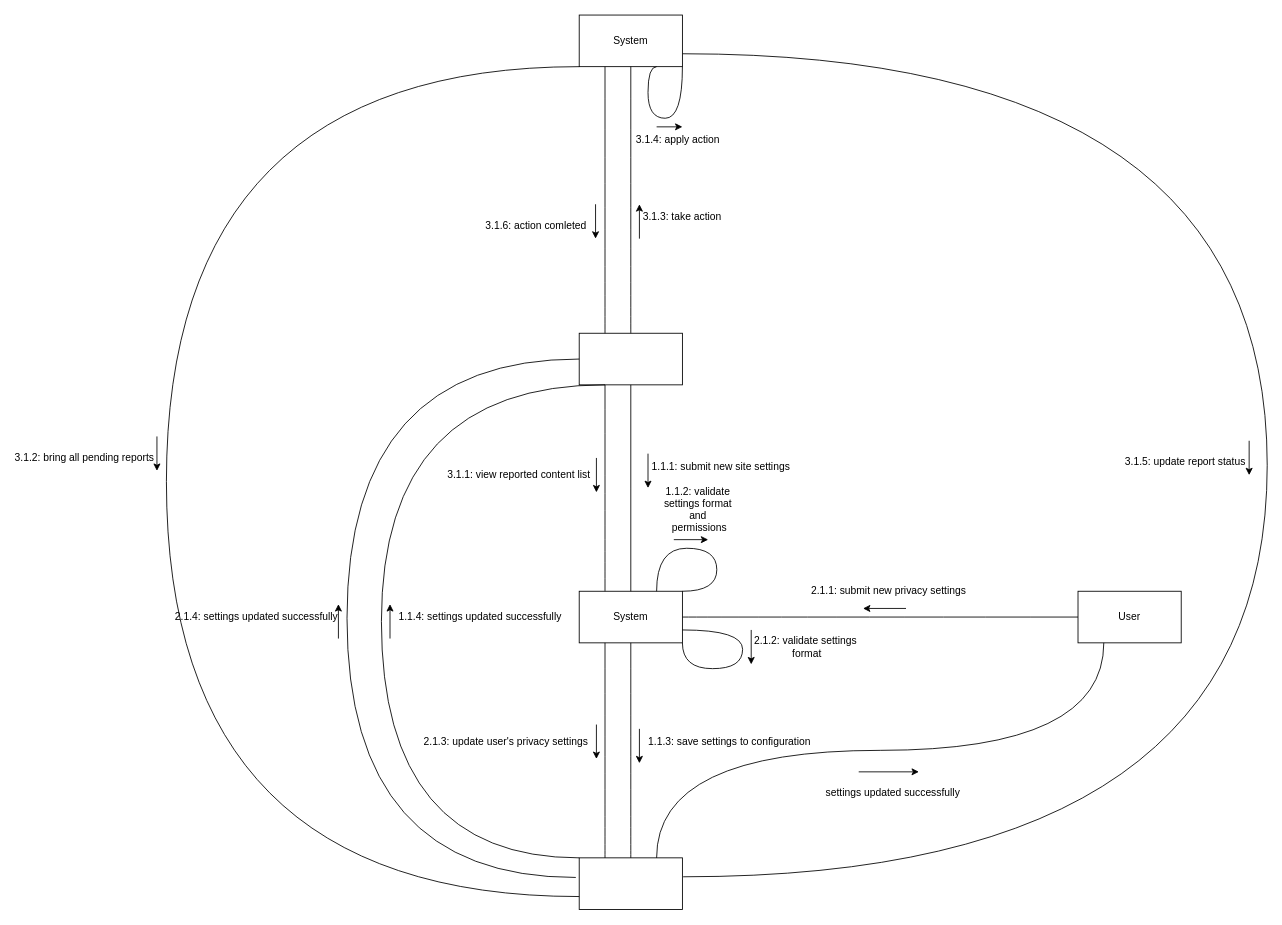
Image size: 1282x925. Some labels were removed from this diagram. Here are the shapes that lost their labels. From the top down, the centre of each, then its label:
[630,358]: Ad min
[630,883]: Database
